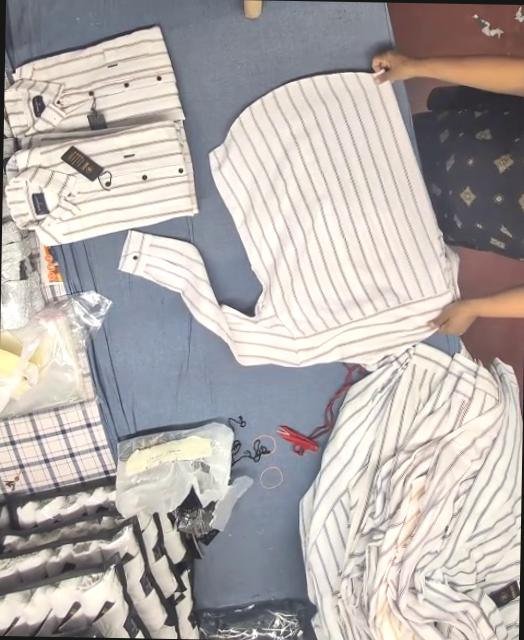new-garment: (121, 73, 456, 367)
